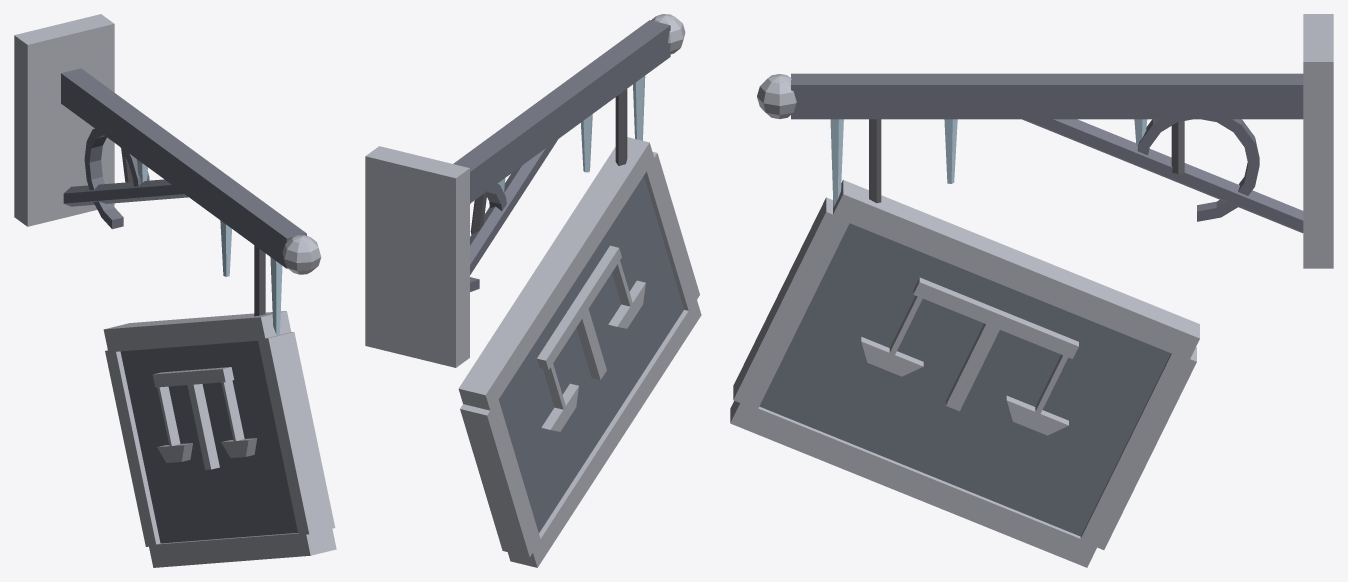
File: PR_Letreiro_Loja_B.fbx
The picture shows the model from 3 angles, left to right: view 1: azimuth 30°, elevation 25°; view 2: azimuth 150°, elevation 25°; view 3: azimuth 270°, elevation 25°; orthographic projection. The views are drawn at different scales.
Visible parts, largest first — view 1: PR_Letreiro_Loja_B; view 2: PR_Letreiro_Loja_B; view 3: PR_Letreiro_Loja_B.
Part boxes in pixels (x1,y1,x2,y2): PR_Letreiro_Loja_B: [14, 14, 336, 567]; PR_Letreiro_Loja_B: [365, 14, 701, 567]; PR_Letreiro_Loja_B: [730, 14, 1333, 567].
Bounding box in the file's own units: 0.3 × 1.52 × 1.59.
